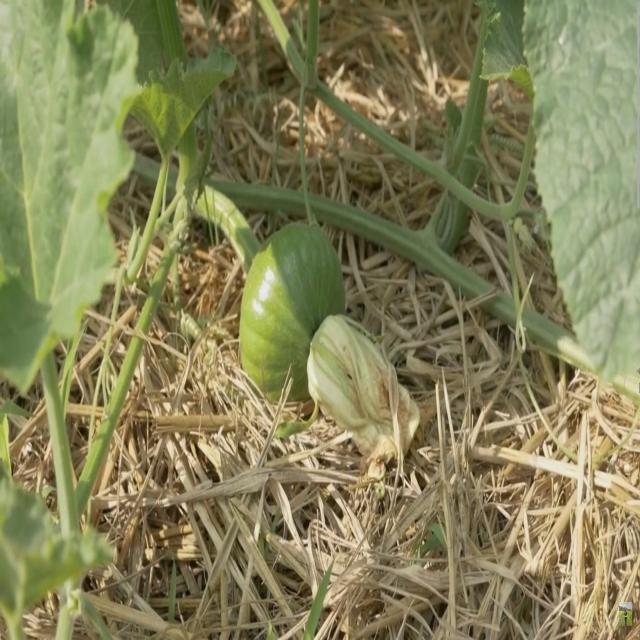flower: (307, 315, 421, 483)
squash: (240, 221, 346, 402)
